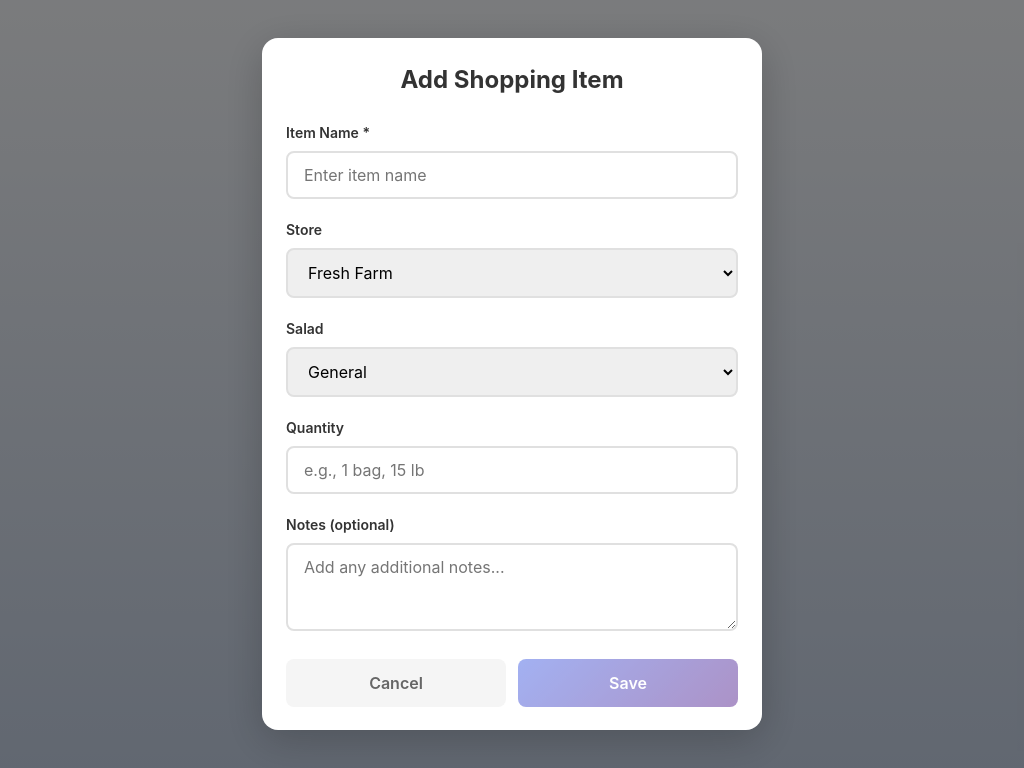
Test: ShoppingItemForm › should enable save button when name is filled
Type "Test Item" into the field with placeholder "Enter item name" at (512, 175), box [286,151,738,199]
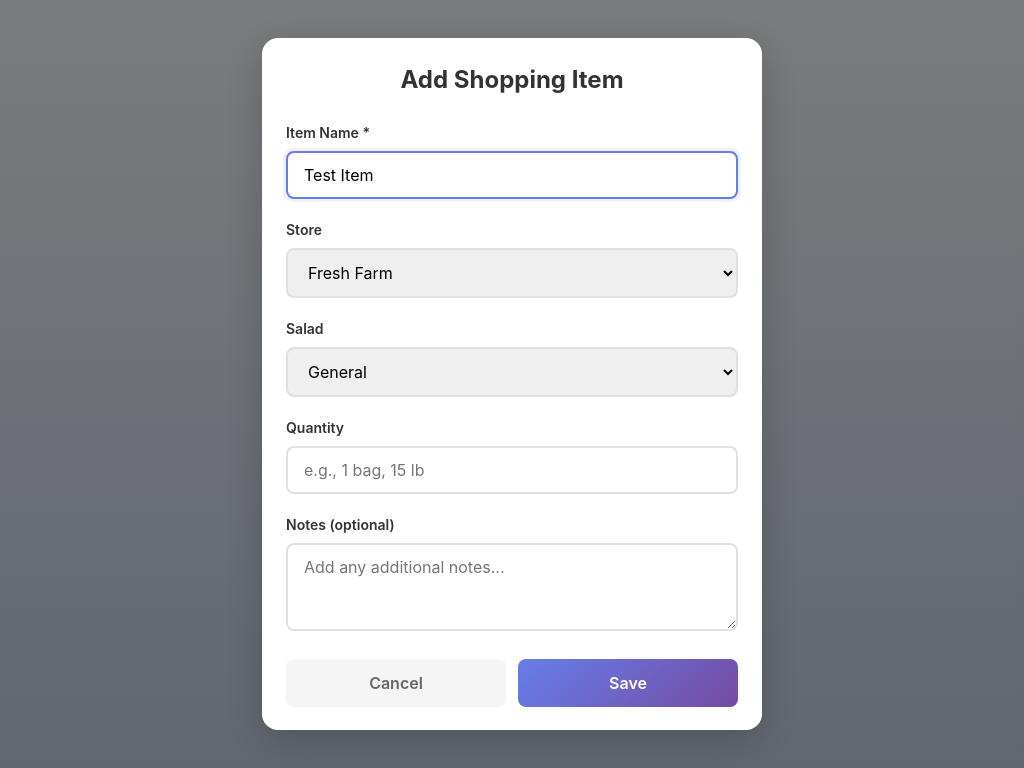
Now the button "Save" is enabled, box [518,659,738,707]
